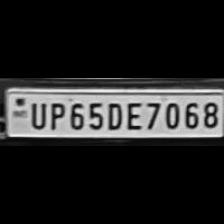0: (160, 100, 180, 128)
5: (86, 98, 104, 130)
6: (65, 99, 85, 129), (180, 100, 200, 128)
7: (142, 99, 160, 129)
8: (199, 98, 219, 128)
D: (103, 99, 123, 129)
E: (123, 99, 143, 129)
P: (45, 99, 65, 129)
U: (26, 99, 46, 129)
